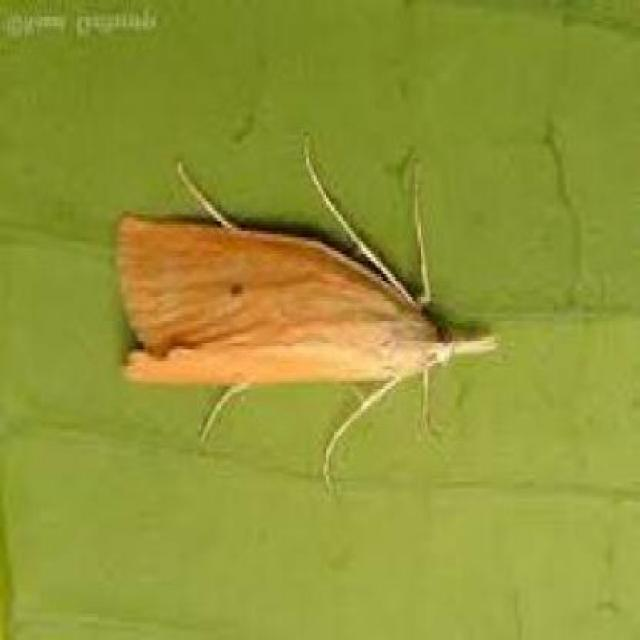stem-borer: (112, 138, 498, 484)
